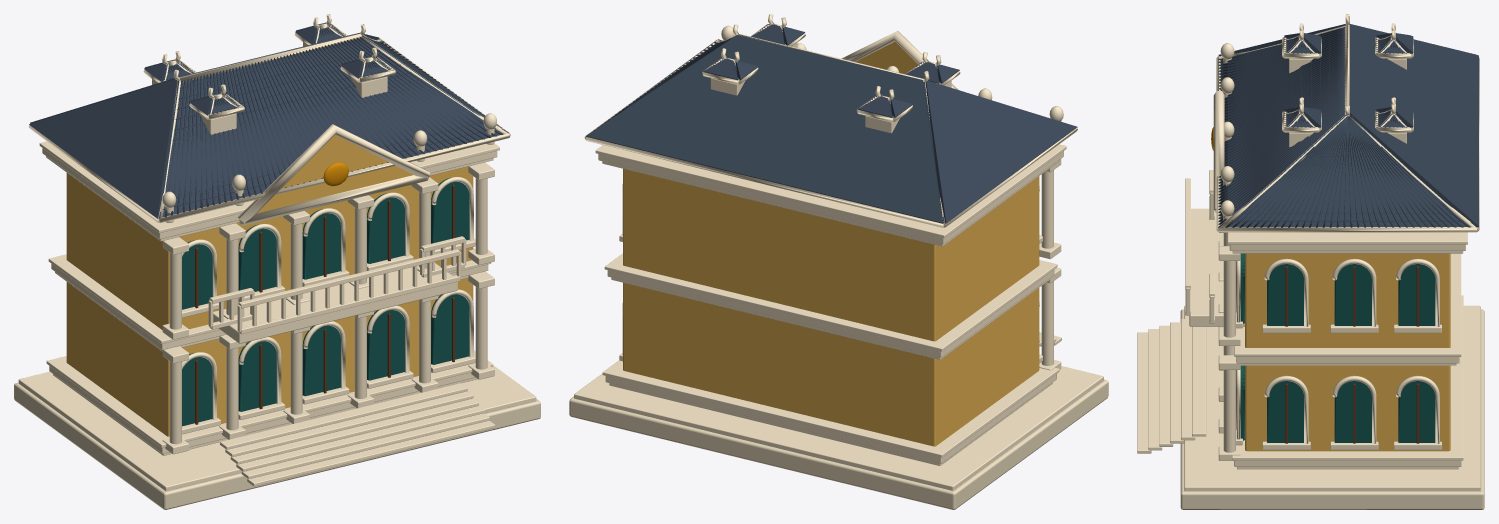
Rendered from hai-phong.glb.
The picture shows the model from 3 angles, left to right: view 1: azimuth 30°, elevation 25°; view 2: azimuth 150°, elevation 25°; view 3: azimuth 270°, elevation 25°; orthographic projection. The views are drawn at different scales.
Visible parts, largest first — view 1: LANDMARK_hai-phong.001; view 2: LANDMARK_hai-phong.001; view 3: LANDMARK_hai-phong.001.
Boxes of the visible parts, x1,y1,x2,y2 form: LANDMARK_hai-phong.001: (14, 14, 540, 509); LANDMARK_hai-phong.001: (569, 14, 1108, 509); LANDMARK_hai-phong.001: (1137, 14, 1484, 509).
Bounding box in the file's own units: 1.41 × 1.27 × 1.12.
